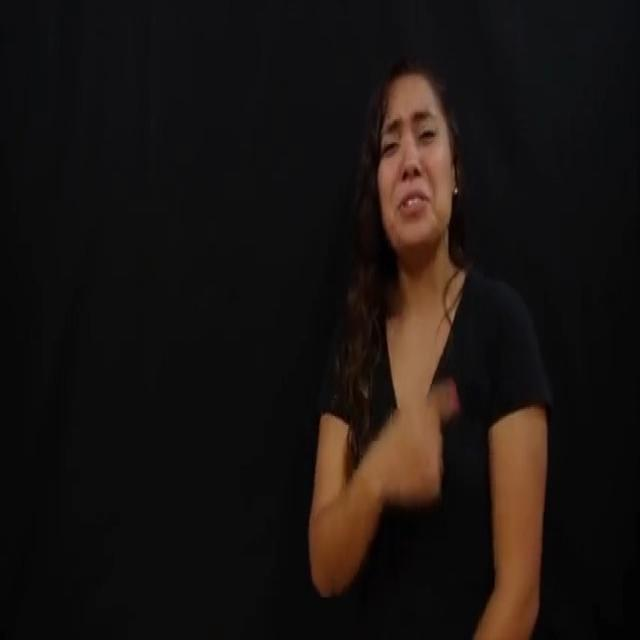bitter: (356, 372, 464, 522)
